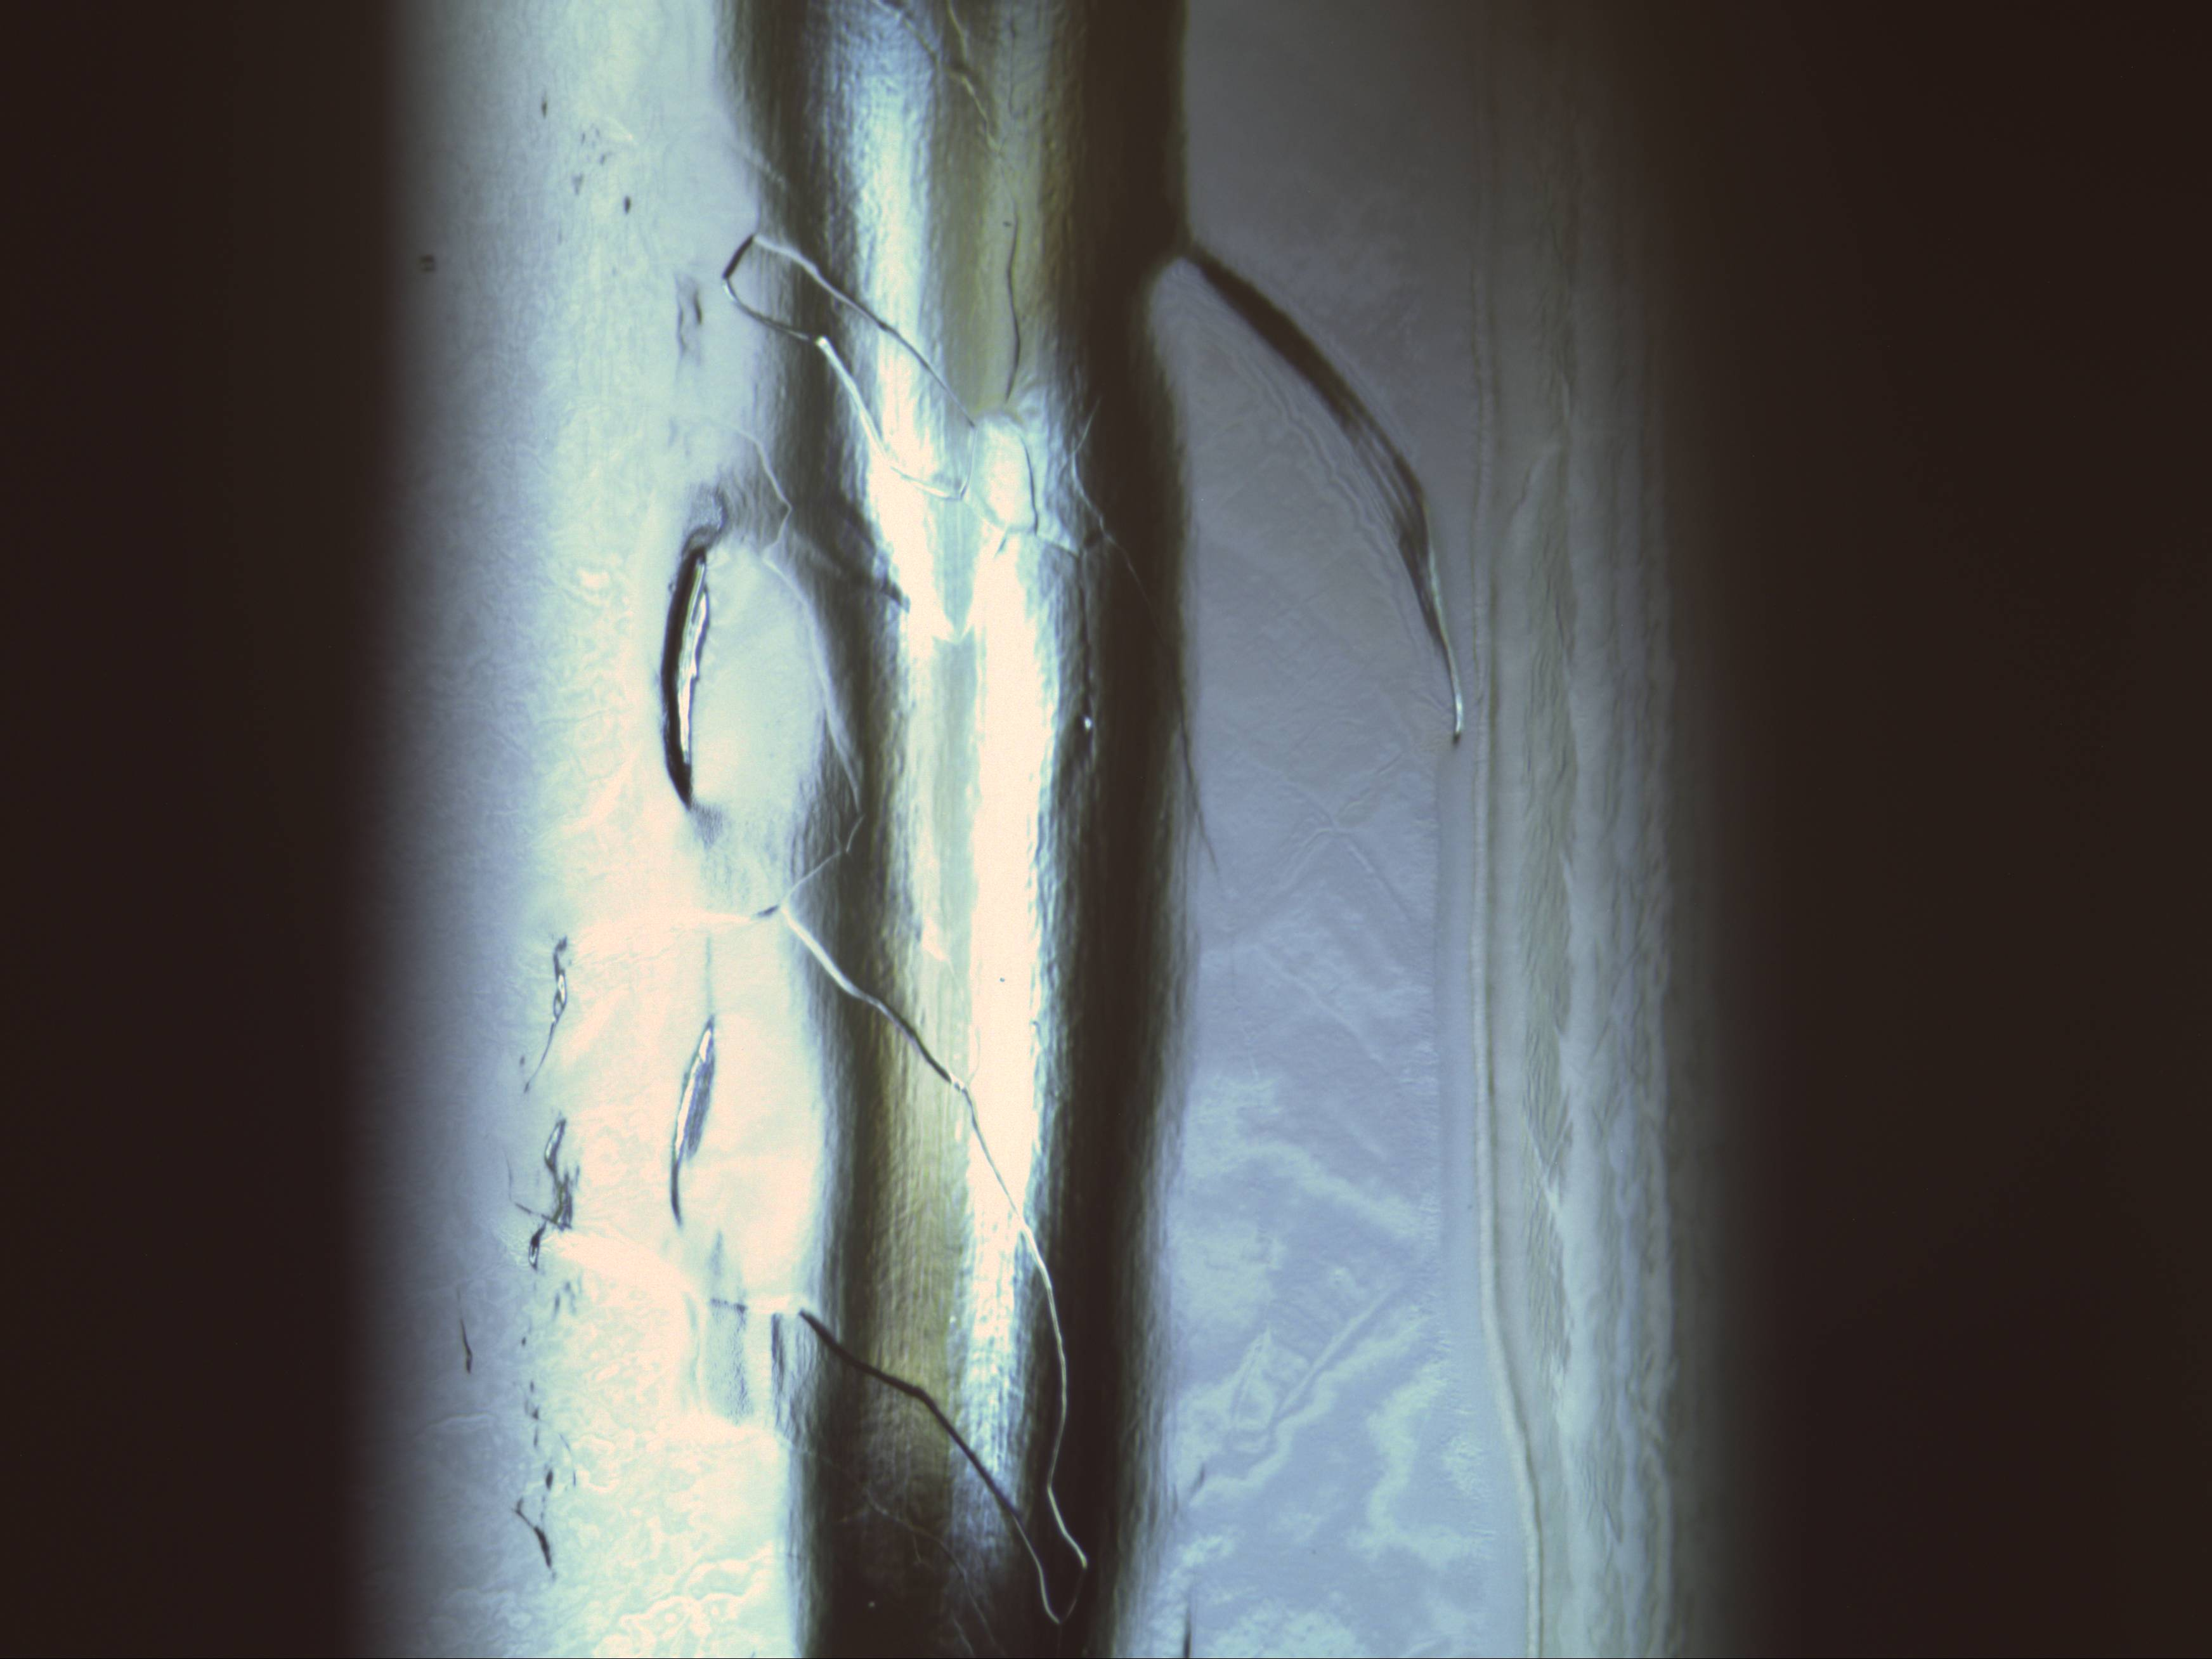defect: (1073, 708, 1099, 735)
